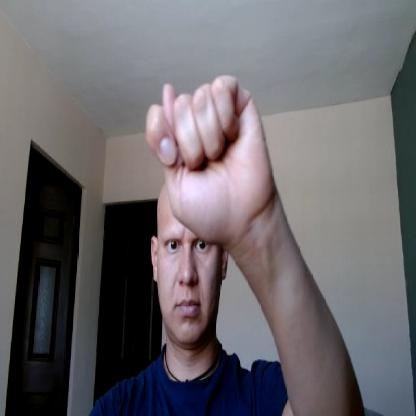T: (144, 72, 271, 245)
